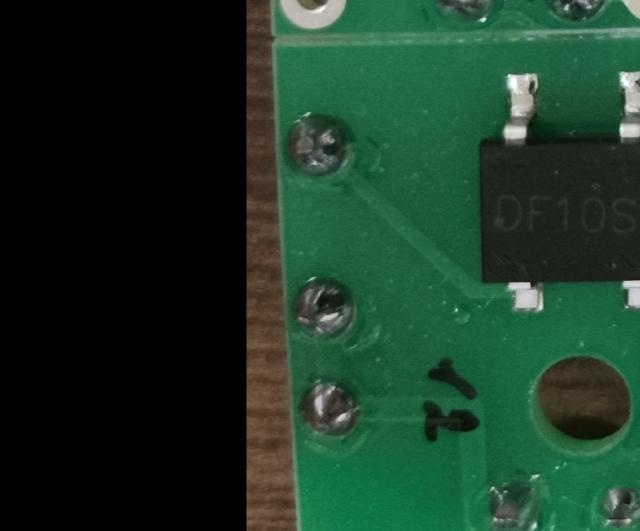ic: (479, 69, 640, 319)
